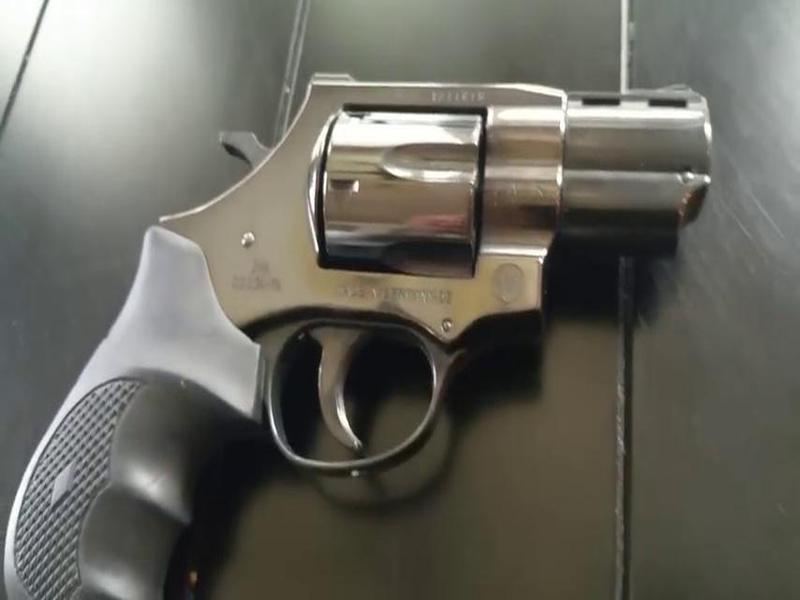Revolver: (92, 73, 729, 472)
